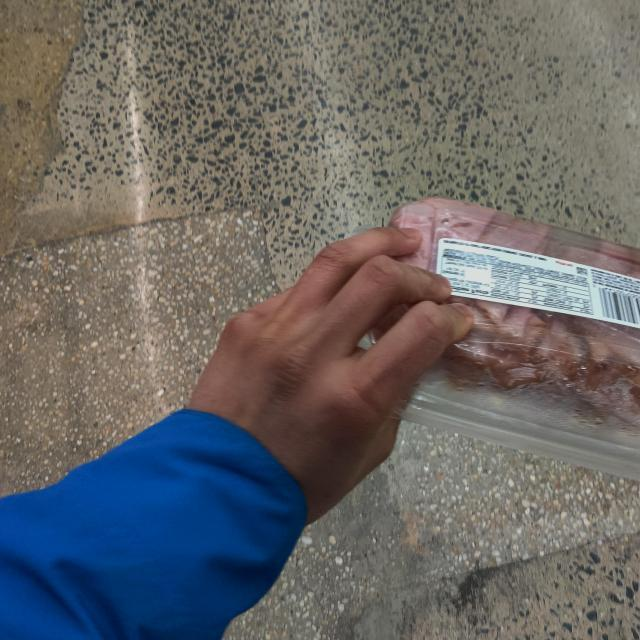Meat: (367, 198, 640, 456)
